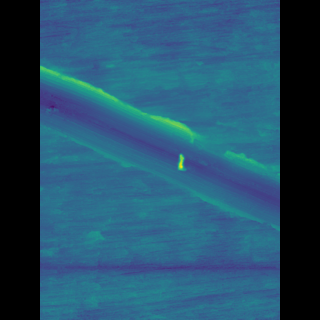Loch: (69, 63, 249, 231)
